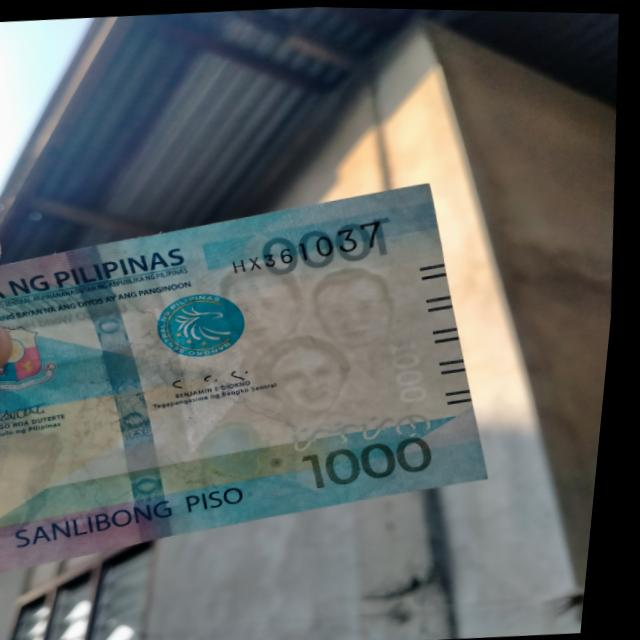security_thread: (70, 243, 185, 542)
see_through_mark: (278, 402, 459, 464)
serial_number: (218, 205, 414, 284)
value_watermark: (383, 331, 448, 410)
watermark: (211, 248, 414, 429)
